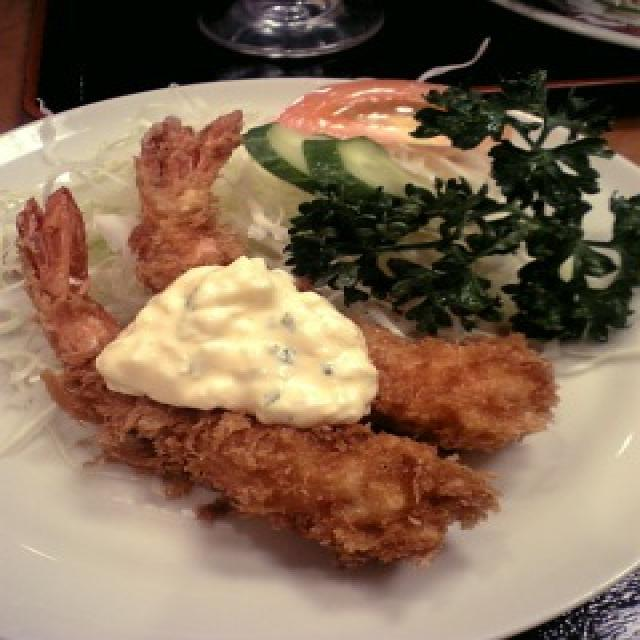炸货点心: (0, 140, 640, 640)
熟制海鲜: (0, 140, 640, 640)
